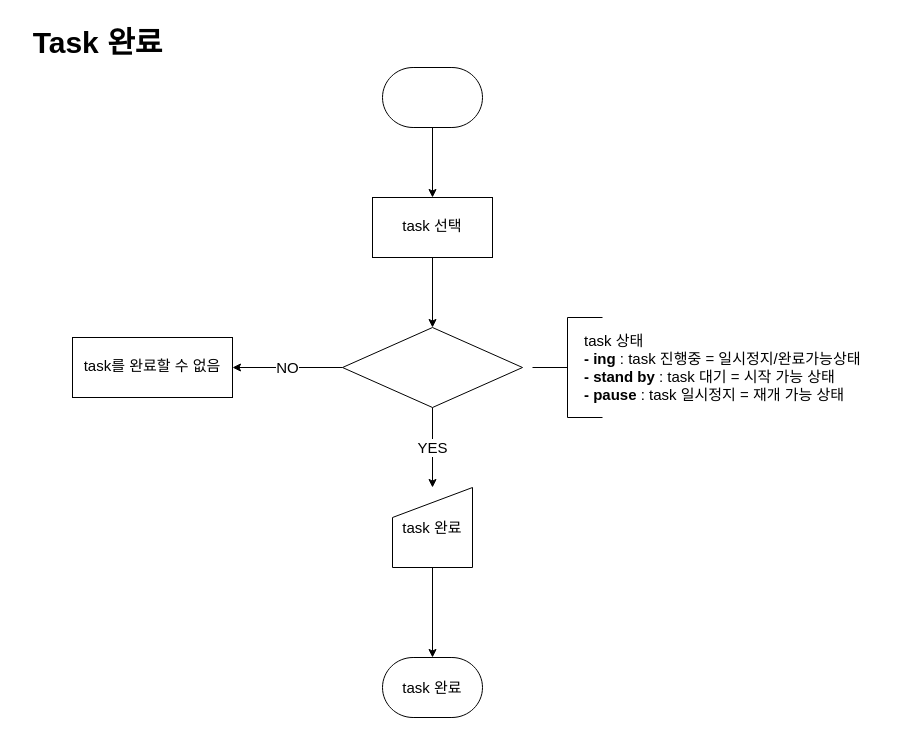
This 899x735 diagram has some shape labels left out. Each missing label, with the centre of its shape:
"task 상태가 ing인가?" goes at (432,367).
"로그인" goes at (432,97).
